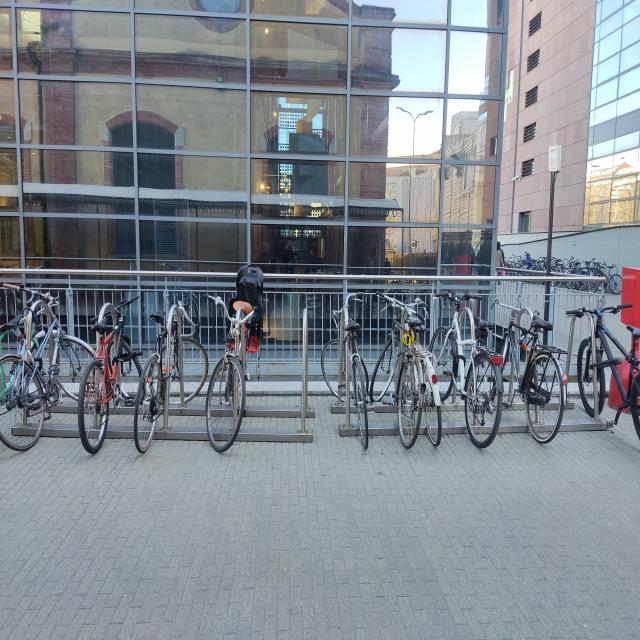Bicycle: (0, 271, 89, 481), (129, 285, 218, 481), (77, 248, 157, 460), (197, 251, 262, 474), (318, 274, 382, 472), (436, 275, 496, 480), (568, 295, 640, 447), (498, 290, 565, 452), (376, 289, 423, 481), (399, 280, 442, 462), (0, 298, 38, 405)
